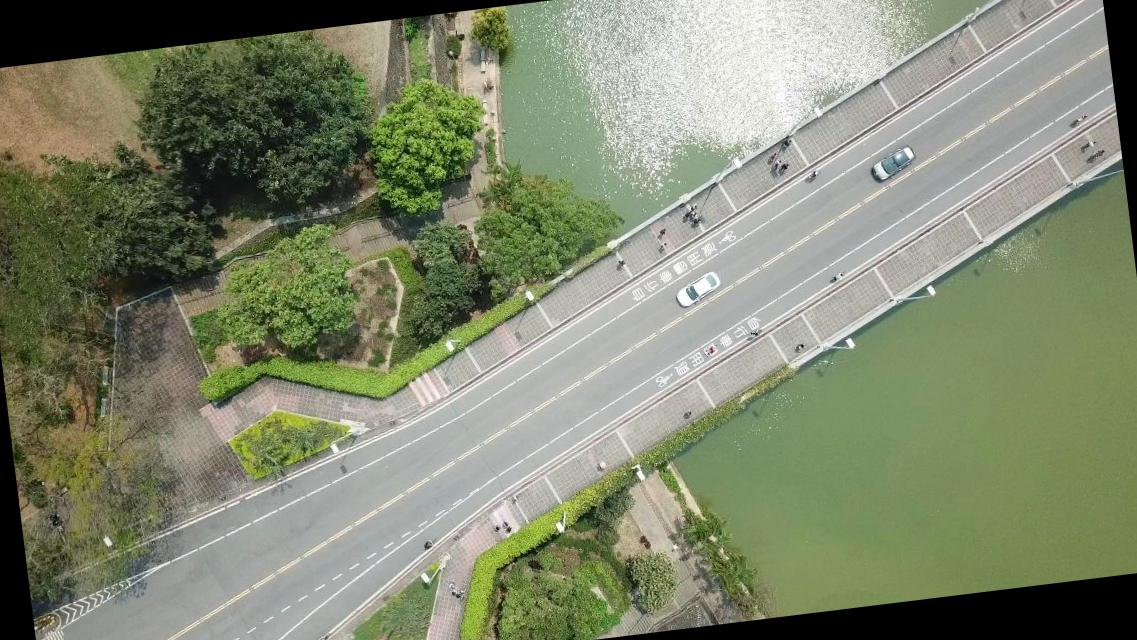vehicle: (673, 270, 722, 308), (870, 144, 918, 182)
